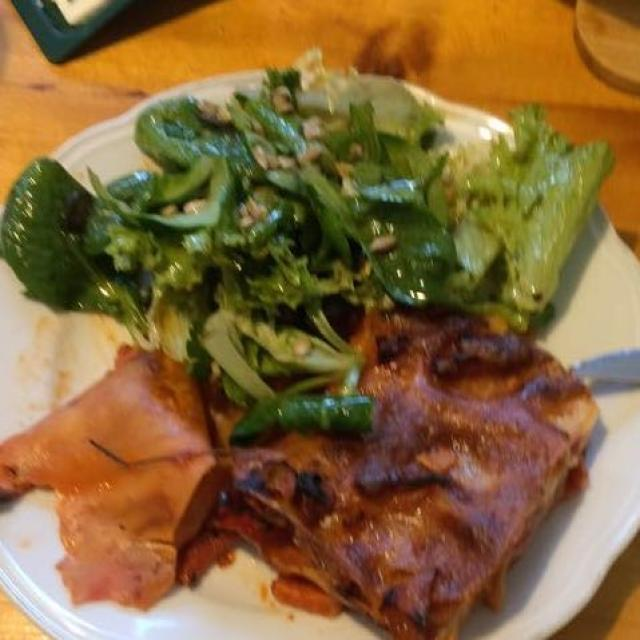lasagne: (16, 304, 613, 630)
salad: (0, 42, 613, 446)
